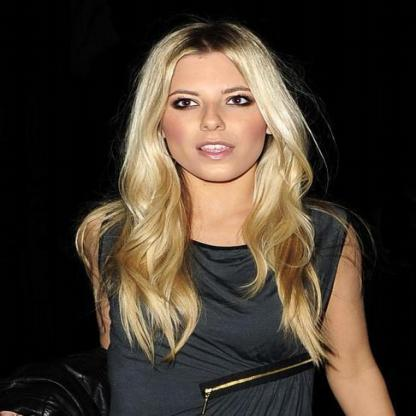long-hair: (98, 185, 340, 235)
